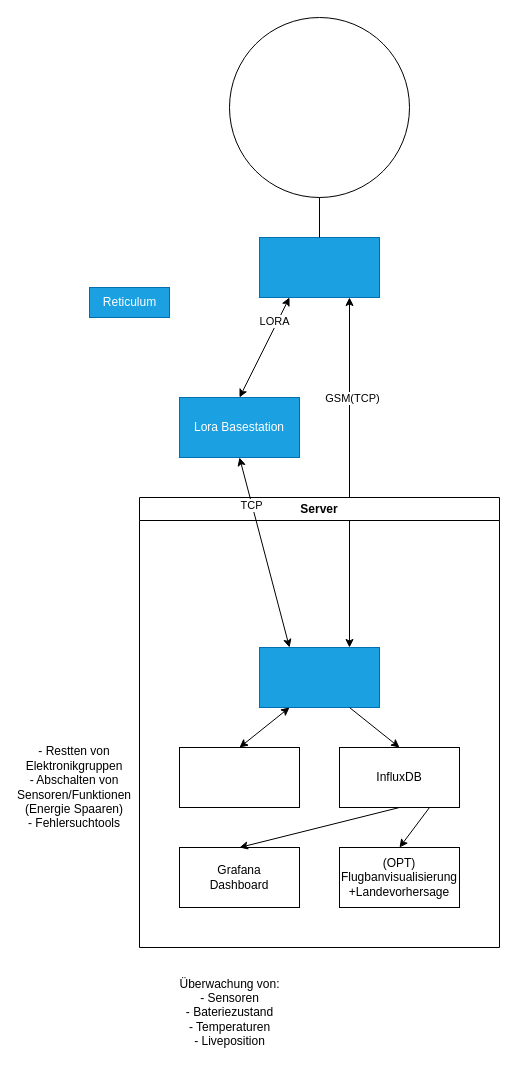
Image size: 517x1075. Some labels were removed from this diagram. The shapes that lost their labels are listed below. From the top down, each one's centre as x and y in pixels, then its label:
At point 319,267: "Ballon Hardware".
At point 319,677: "Reticulum Connector".
At point 239,777: "Kontrollcenter".
